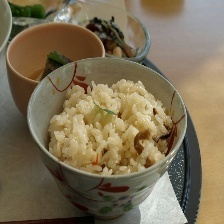rice: (44, 71, 182, 180)
